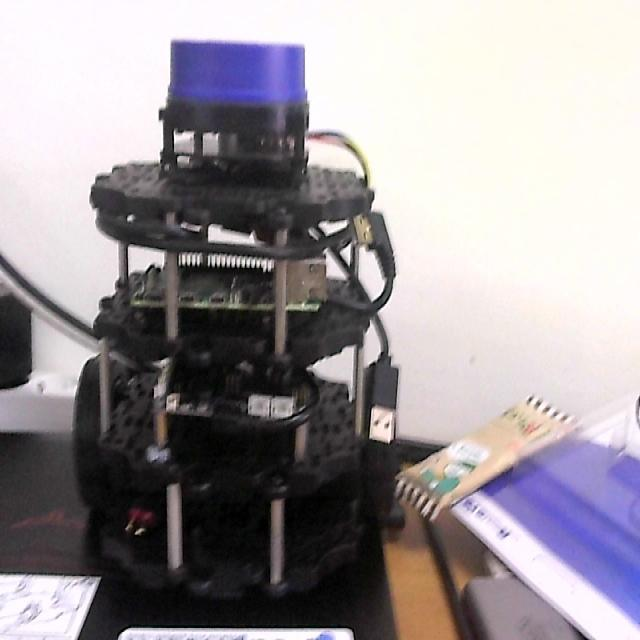turtle: (70, 37, 400, 622)
